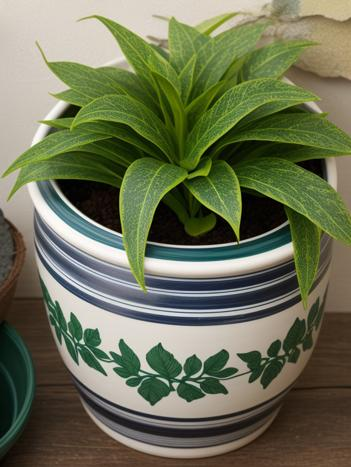pottedplant: (1, 14, 350, 467)
